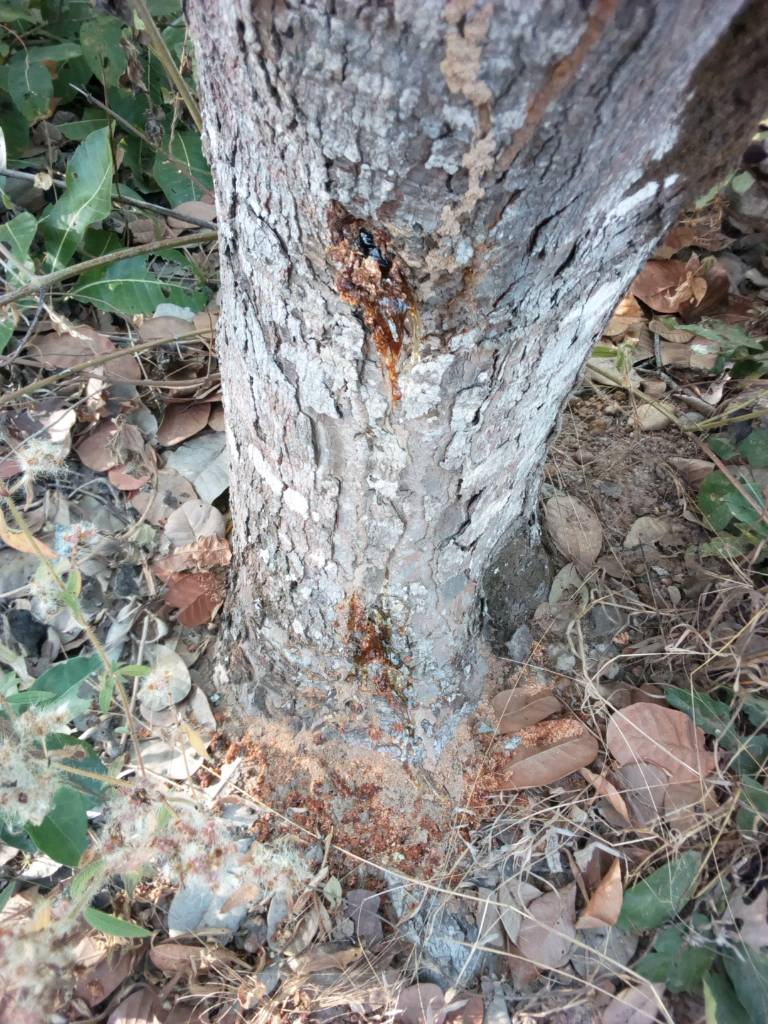Apate terebrans: (286, 182, 500, 399)
